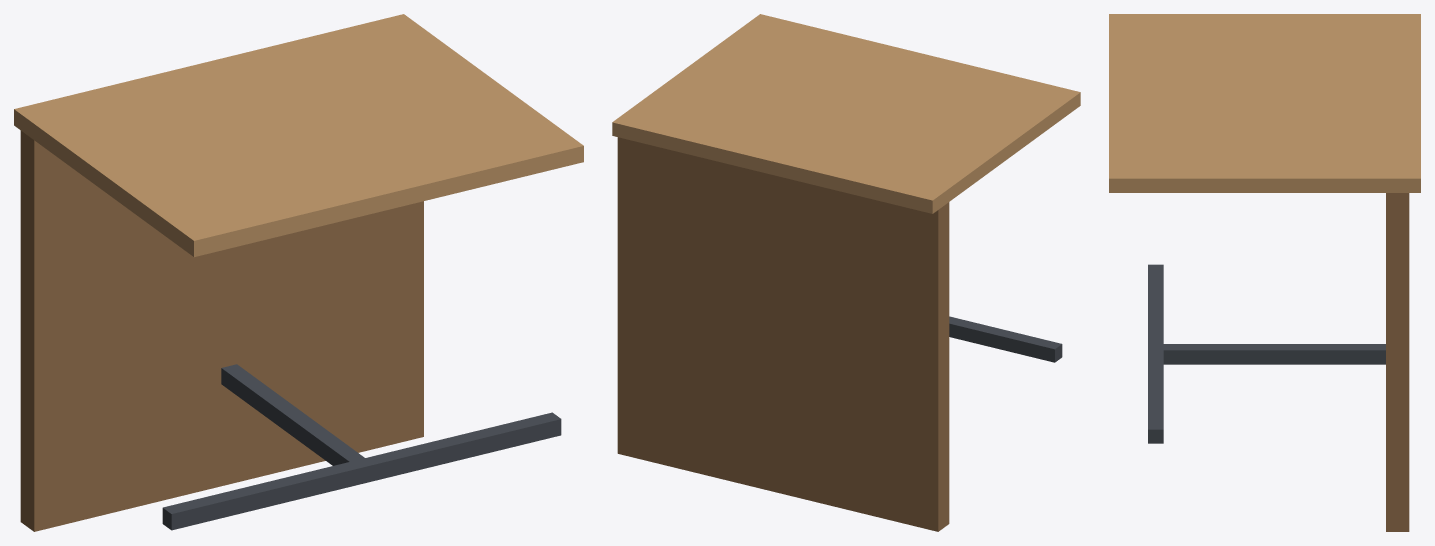
The model's file is window_bar.glb.
3 renders of one model, left to right at view 1: azimuth 30°, elevation 25°; view 2: azimuth 150°, elevation 25°; view 3: azimuth 270°, elevation 25°, orthographic. The views are drawn at different scales.
Parts seen in each view (by area): view 1: window_bar_mesh; view 2: window_bar_mesh; view 3: window_bar_mesh.
Part boxes in pixels (x1,y1,x2,y2): window_bar_mesh: (14, 14, 583, 531); window_bar_mesh: (612, 14, 1080, 531); window_bar_mesh: (1109, 14, 1420, 531).
Bounding box in the file's own units: 1 × 1 × 0.8.
